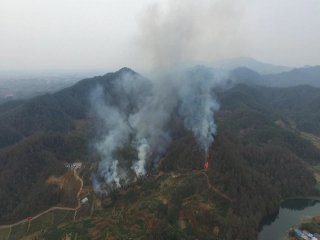smoke: (81, 4, 235, 197)
